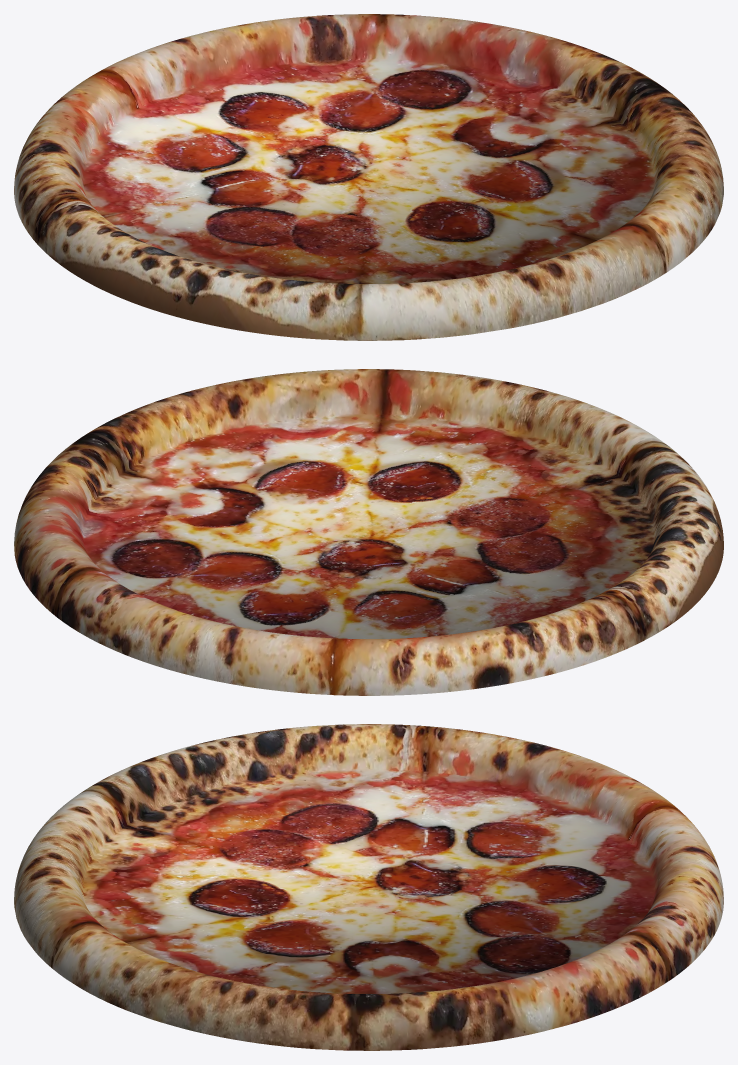
Rendered from pizza-pepperoni.glb.
The picture shows the model from 3 angles, top to bottom: view 1: azimuth 30°, elevation 25°; view 2: azimuth 150°, elevation 25°; view 3: azimuth 270°, elevation 25°; orthographic projection.
Parts seen in each view (by area): view 1: Dish; view 2: Dish; view 3: Dish.
Boxes of the visible parts, <box> form: Dish: <box>14,14,723,340</box>; Dish: <box>14,369,723,695</box>; Dish: <box>14,724,723,1050</box>.
Size of the model in its own units: 0.33 by 0.02 by 0.33.
2 materials, 1 textured.
